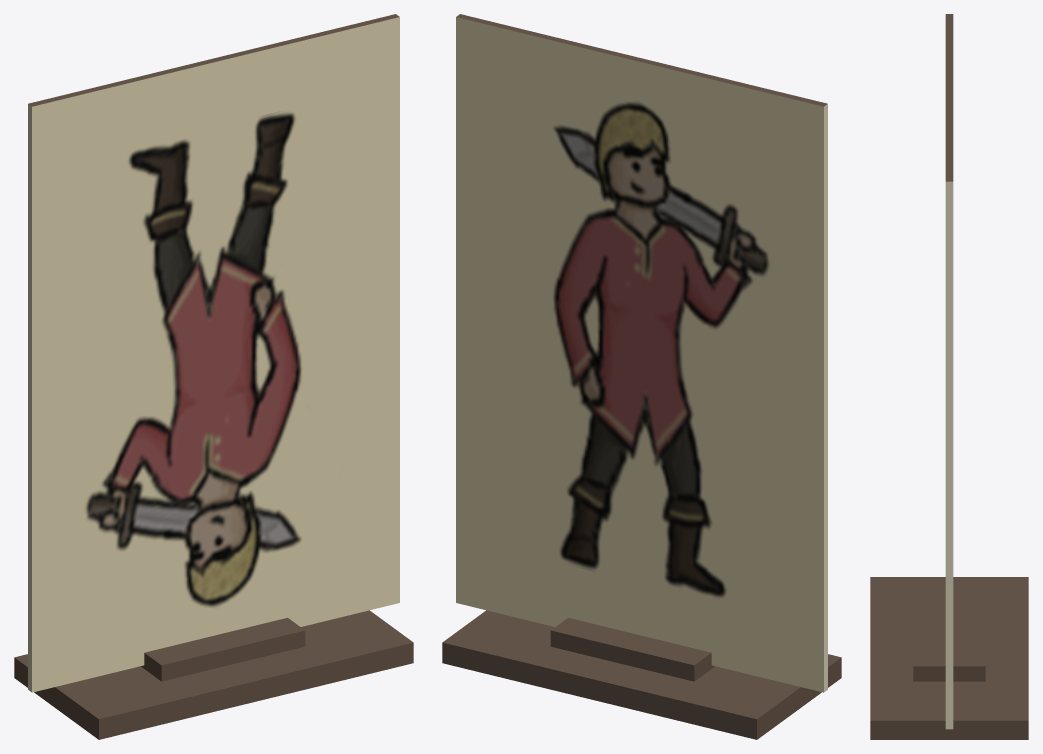
Rendered from hero.fbx.
3 views of the same model, side by side, from view 1: azimuth 30°, elevation 25°; view 2: azimuth 150°, elevation 25°; view 3: azimuth 270°, elevation 25° (orthographic). The views are drawn at different scales.
Parts seen in each view (by area): view 1: Cube.001; view 2: Cube.001; view 3: Cube.001.
Part boxes in pixels (bbox=[...]): Cube.001: bbox=[14, 14, 413, 739]; Cube.001: bbox=[442, 14, 841, 739]; Cube.001: bbox=[870, 14, 1028, 739].
Bounding box in the file's own units: 118 × 188 × 47.19.
Materials: 1 (1 with a texture image).
